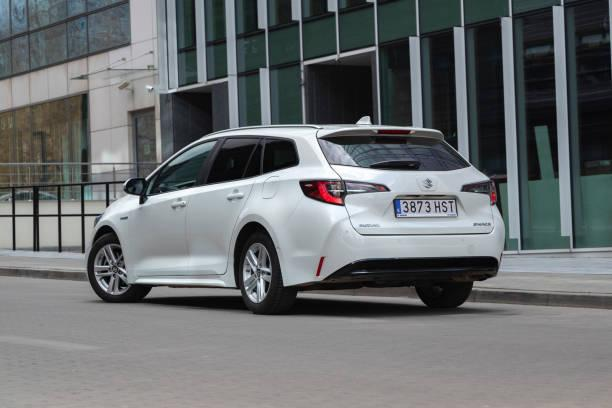suzuki: (418, 174, 438, 195)
